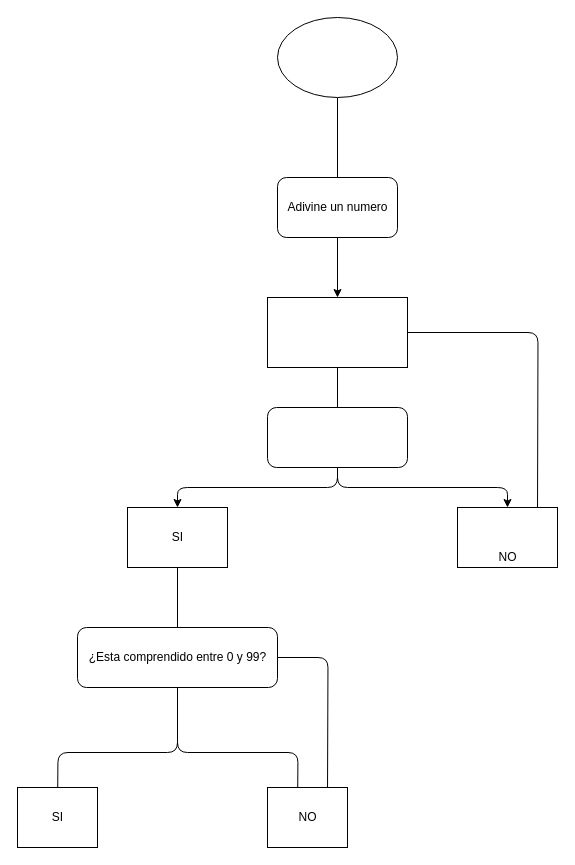
Some shapes in this 575 by 865 pixel diagram are drawn without their labels. Here are the shapes that lost their labels. From the top down, the centre of each, then its label:
At point (337, 57): "INICIO".
At point (337, 332): "Introduzca un numero (int)".
At point (337, 437): "¿Es un numero entero?".
